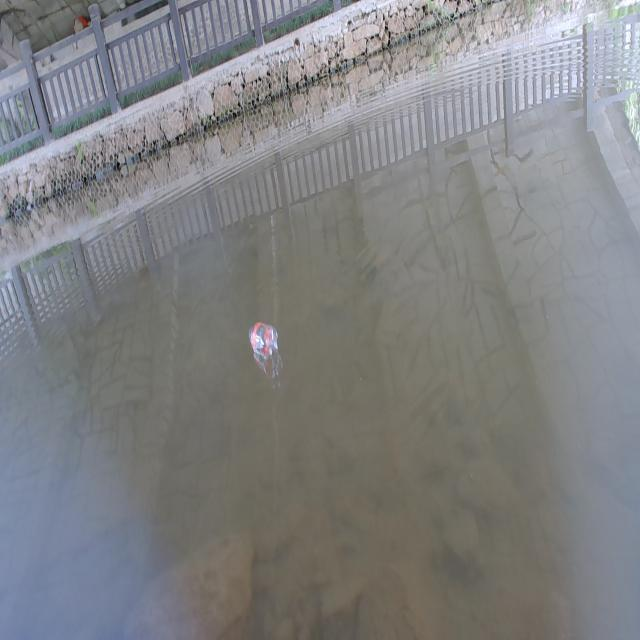bottle: (239, 294, 294, 396)
